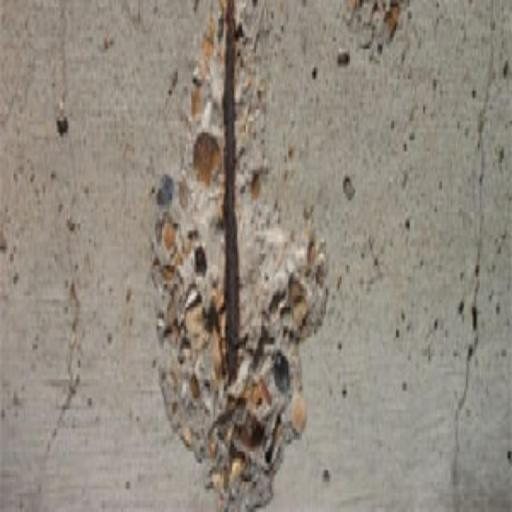spalling: (152, 0, 332, 509)
